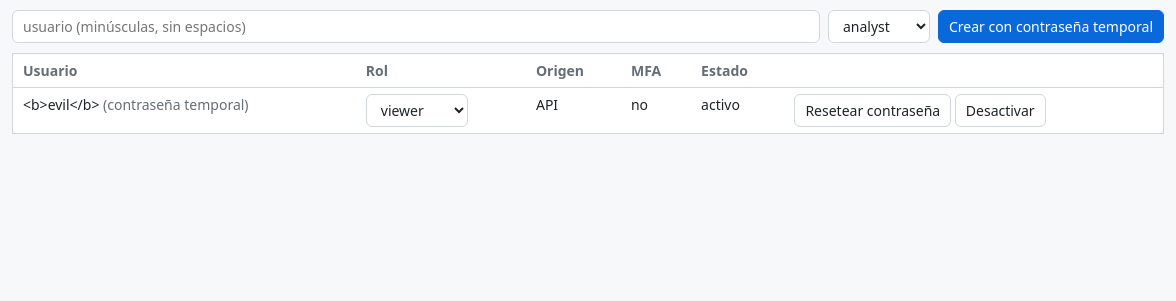
Test case: credential management UI › admin creates a user, sees the temporary password once, and untrusted ids are rendered as text
The image size is (1176, 301).
Check: the text "<b>evil</b>" is shown, box [23, 95, 99, 114]
Type "carla" into the field named "Identificador" at {"x": 416, "y": 26}, box [12, 10, 820, 43]
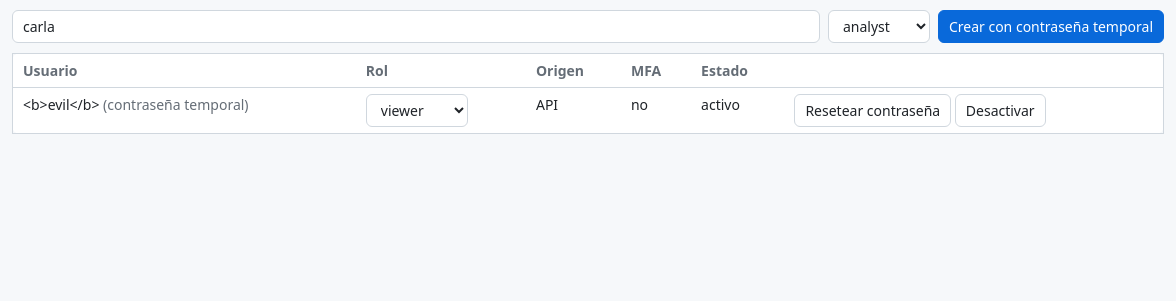
Click the button "Crear con contraseña temporal" at {"x": 1051, "y": 26}, box [938, 10, 1164, 43]
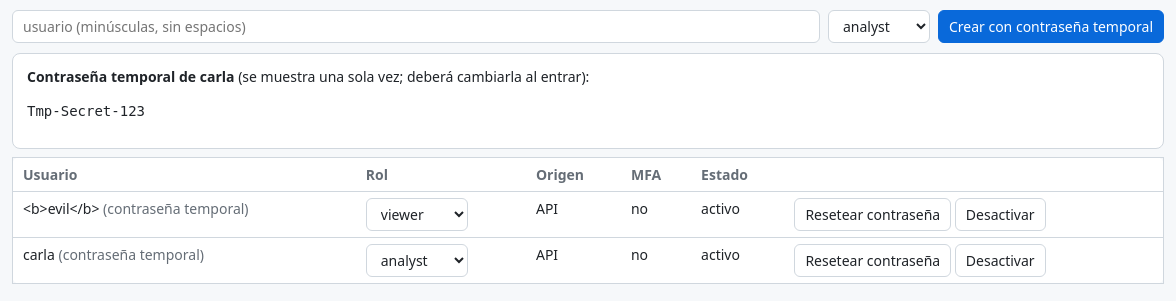
Check: the text "Tmp-Secret-123" is shown, box [27, 103, 145, 119]
Check: the text "carla" is shown, box [23, 245, 55, 264]
